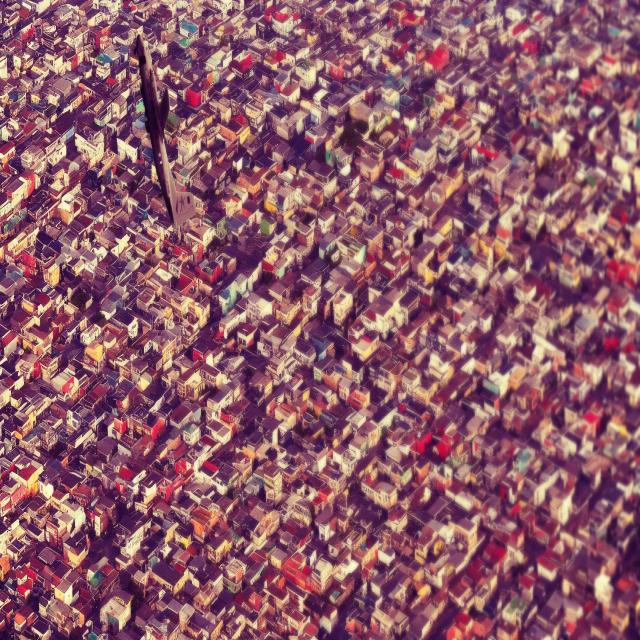airplane: (134, 31, 197, 233)
